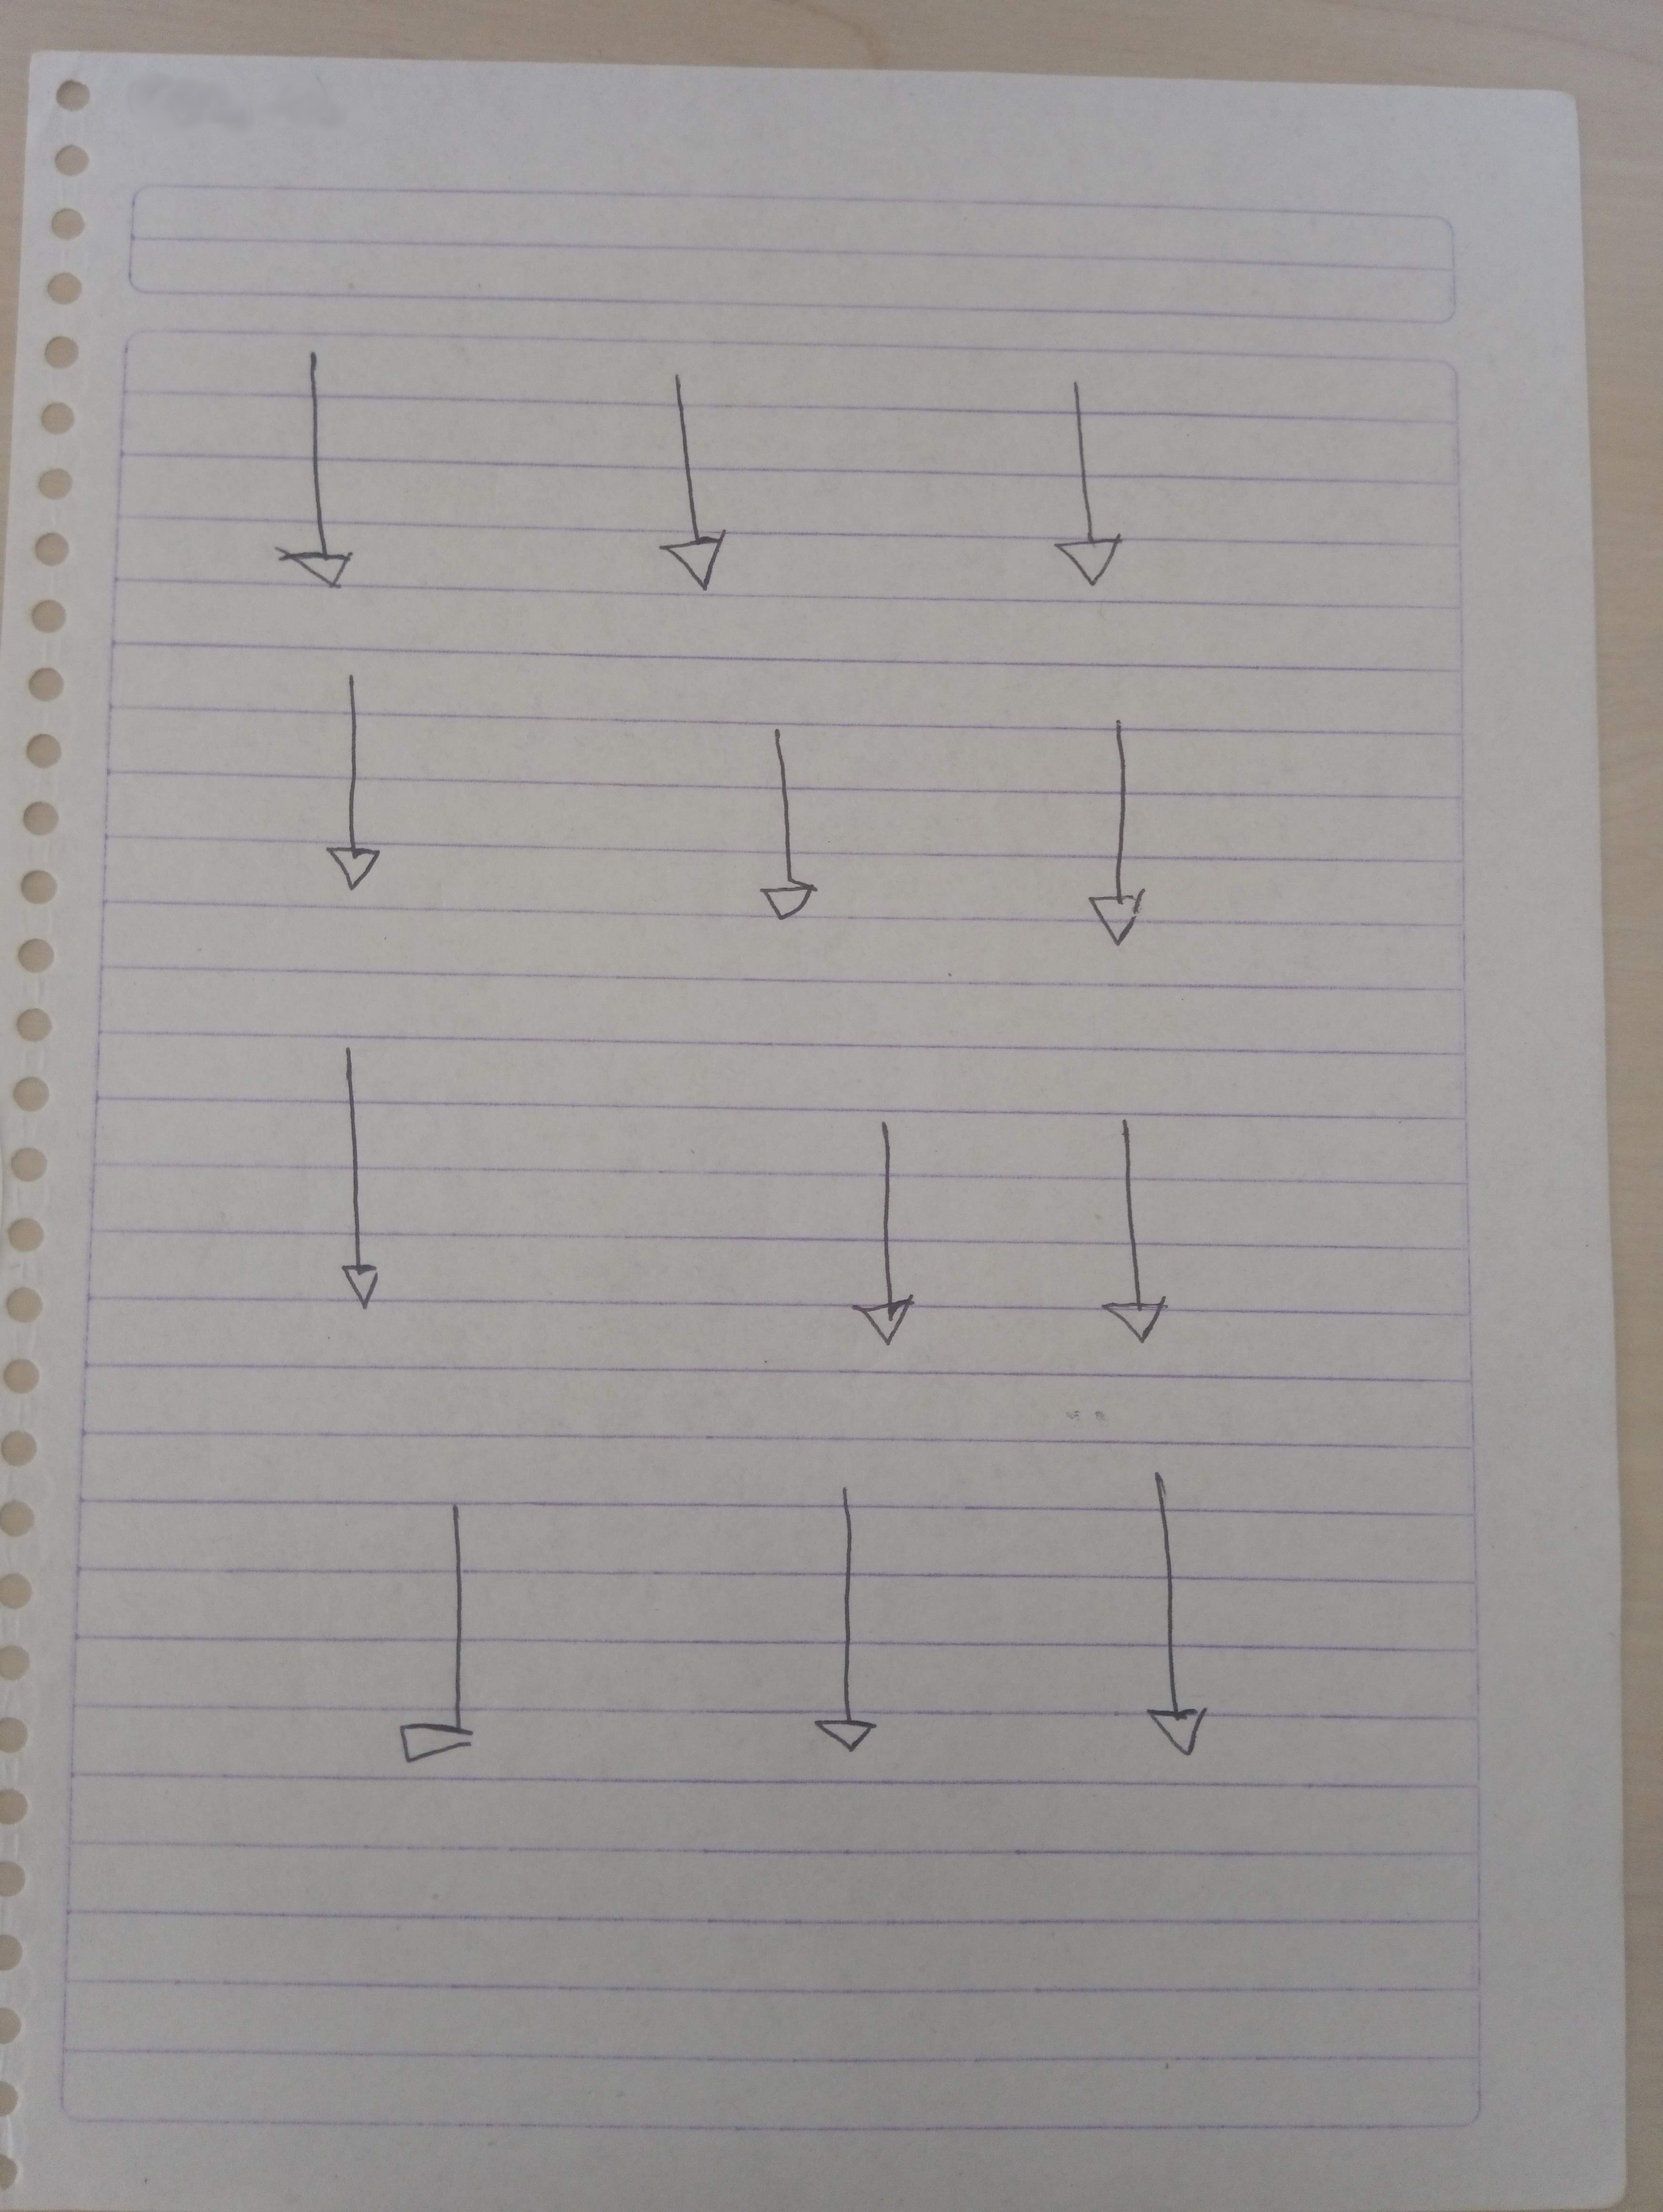arrow_line_down: (1114, 1465, 1240, 1774), (391, 1500, 508, 1786), (1059, 730, 1198, 958), (245, 353, 370, 602), (643, 347, 760, 599), (838, 1123, 950, 1383), (304, 1058, 412, 1318), (739, 716, 851, 950), (309, 669, 412, 920), (1099, 1123, 1202, 1374), (1038, 377, 1137, 608), (812, 1496, 889, 1777)
